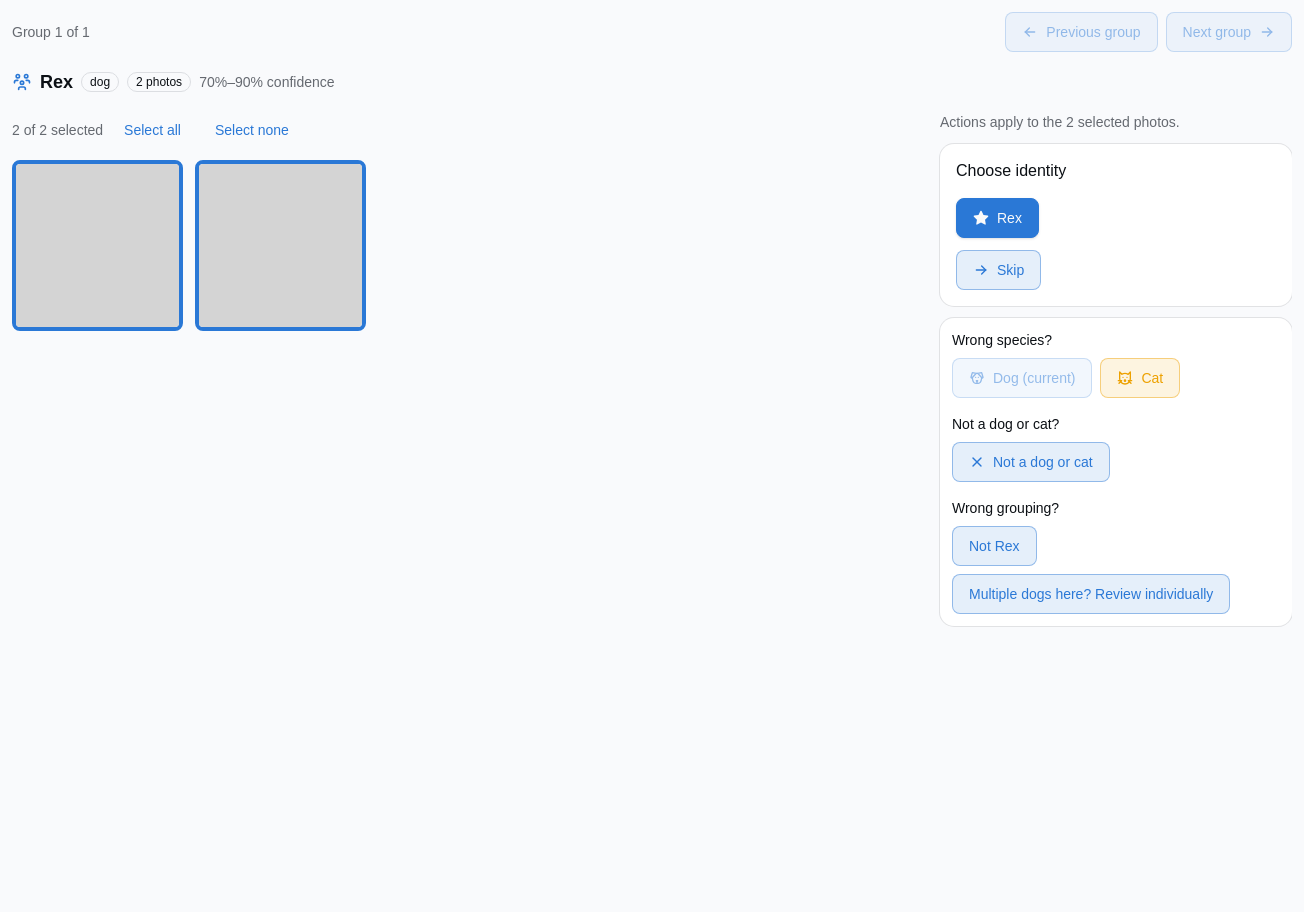
Test: ReviewGroupedPanel › corrects the species of every selected member
The image size is (1304, 912).
Click the button "Cat": coordinates (1140, 378) top-left (1100, 358), bottom-right (1180, 398)
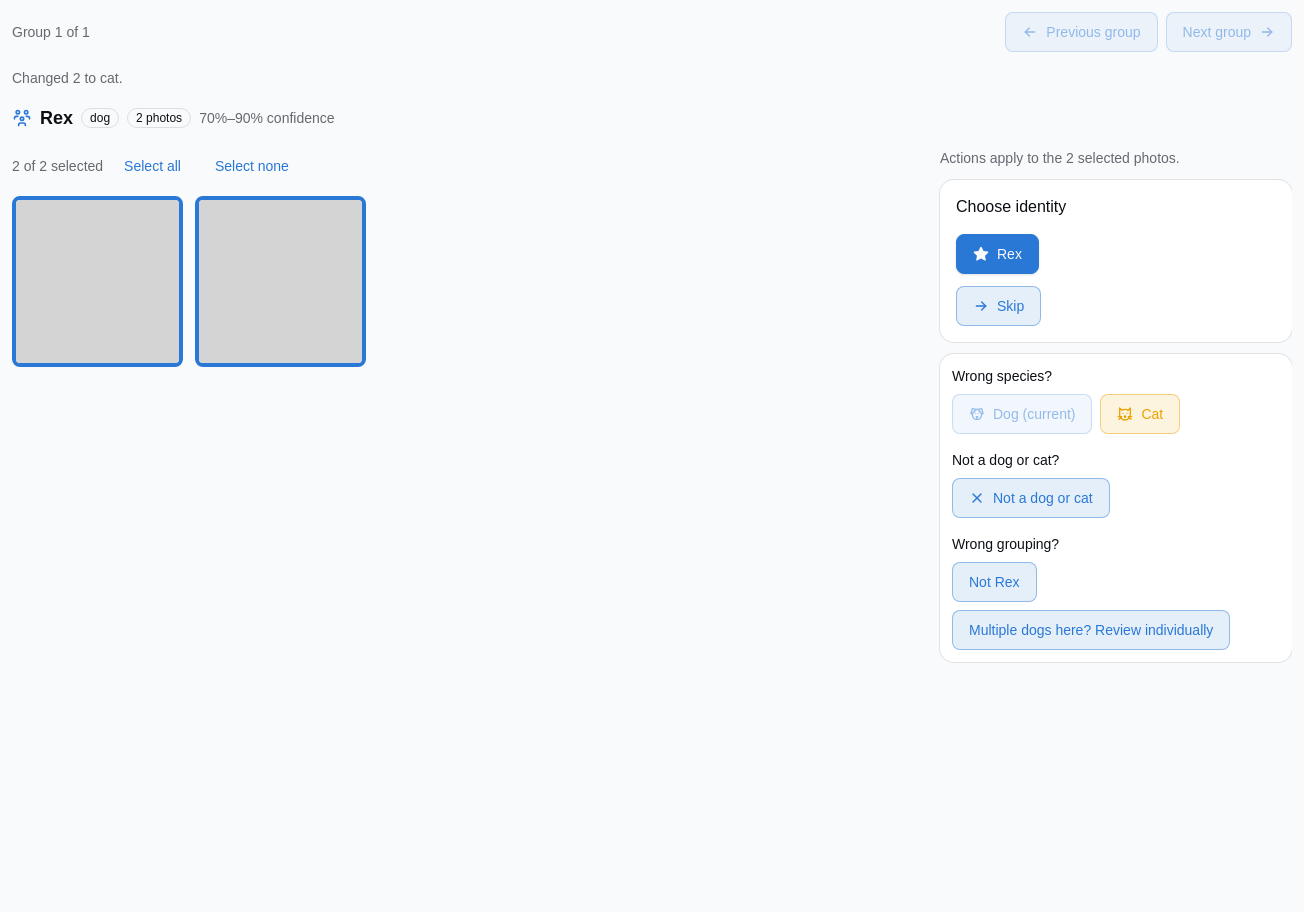
Now the text "Changed 2 to cat." is shown, box top-left (12, 70), bottom-right (122, 86)
